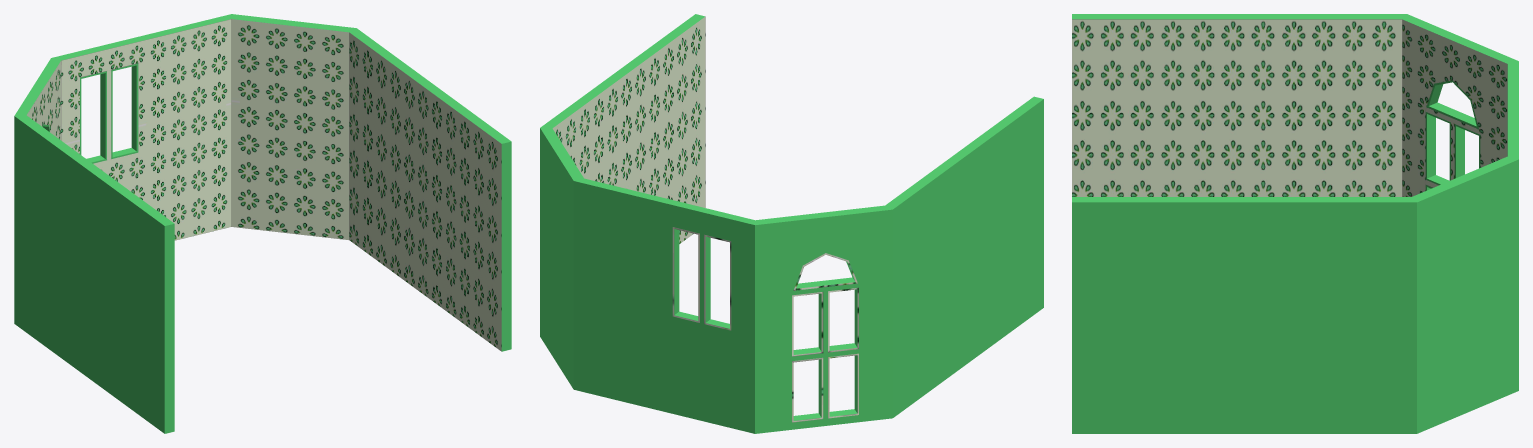
The model's file is y_duvar.obj.
3 renders of one model, left to right at view 1: azimuth 30°, elevation 25°; view 2: azimuth 150°, elevation 25°; view 3: azimuth 270°, elevation 25°, orthographic. The views are drawn at different scales.
Parts seen in each view (by area): view 1: Cube.141_w_zümrüğt, Cube.141_m_yeşil; view 2: Cube.141_m_yeşil, Cube.141_w_zümrüğt; view 3: Cube.141_m_yeşil, Cube.141_w_zümrüğt.
Boxes of the visible parts, x1=… form: Cube.141_w_zümrüğt: x1=27, y1=19, x2=501, y2=351; Cube.141_m_yeşil: x1=14, y1=14, x2=511, y2=433; Cube.141_m_yeşil: x1=540, y1=14, x2=1043, y2=433; Cube.141_w_zümrüğt: x1=552, y1=16, x2=858, y2=422; Cube.141_m_yeşil: x1=1072, y1=14, x2=1518, y2=433; Cube.141_w_zümrüğt: x1=1072, y1=19, x2=1507, y2=196.
Bounding box in the file's own units: 68.08 × 38.99 × 68.21.
